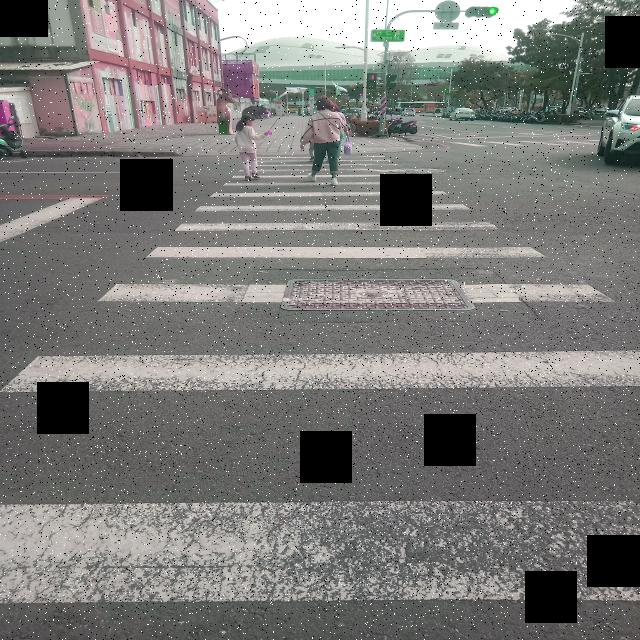person: (300, 96, 347, 185), (235, 114, 272, 180), (337, 125, 355, 159), (335, 105, 347, 122)
zebra crossing: (0, 156, 638, 605)
